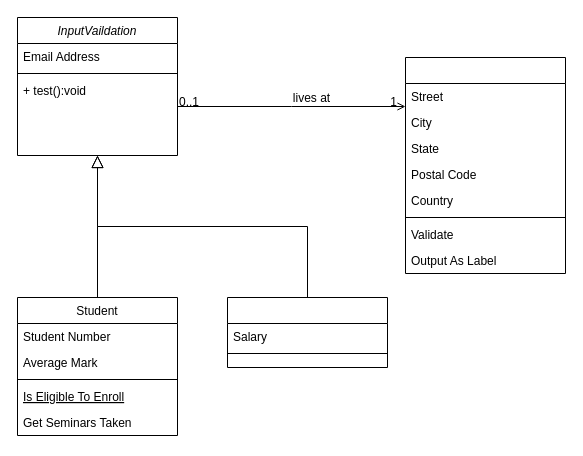
Image size: 583x456. Some labels were removed from this diagram. The box of each missing label's shape, as (x1, y1, x2, y2) in pixels:
Address: (404, 56, 566, 274)
Professor: (226, 296, 388, 368)
